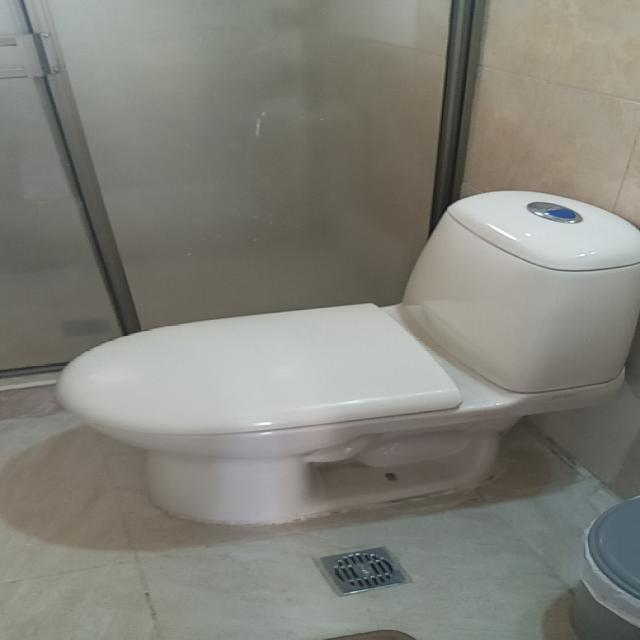toilet: (51, 182, 640, 532)
